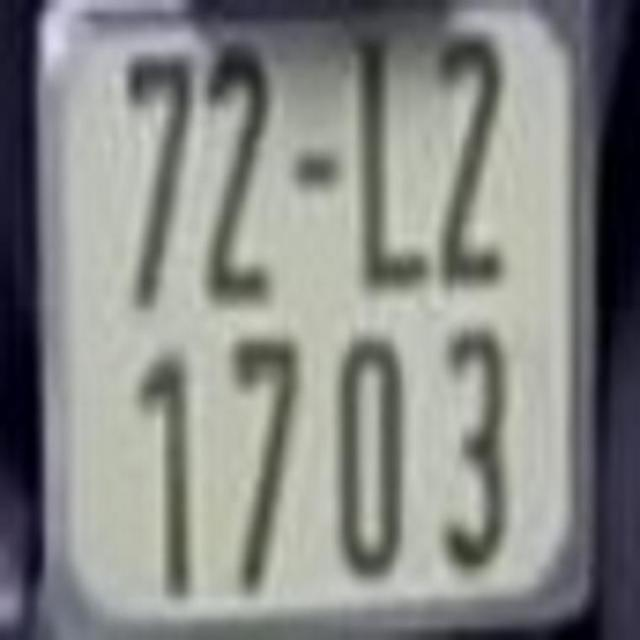0: (331, 324, 405, 580)
1: (136, 348, 209, 602)
2: (200, 38, 273, 308), (433, 31, 506, 289)
3: (441, 314, 507, 575)
7: (216, 330, 300, 599), (117, 36, 196, 308)
L: (348, 40, 432, 295)
